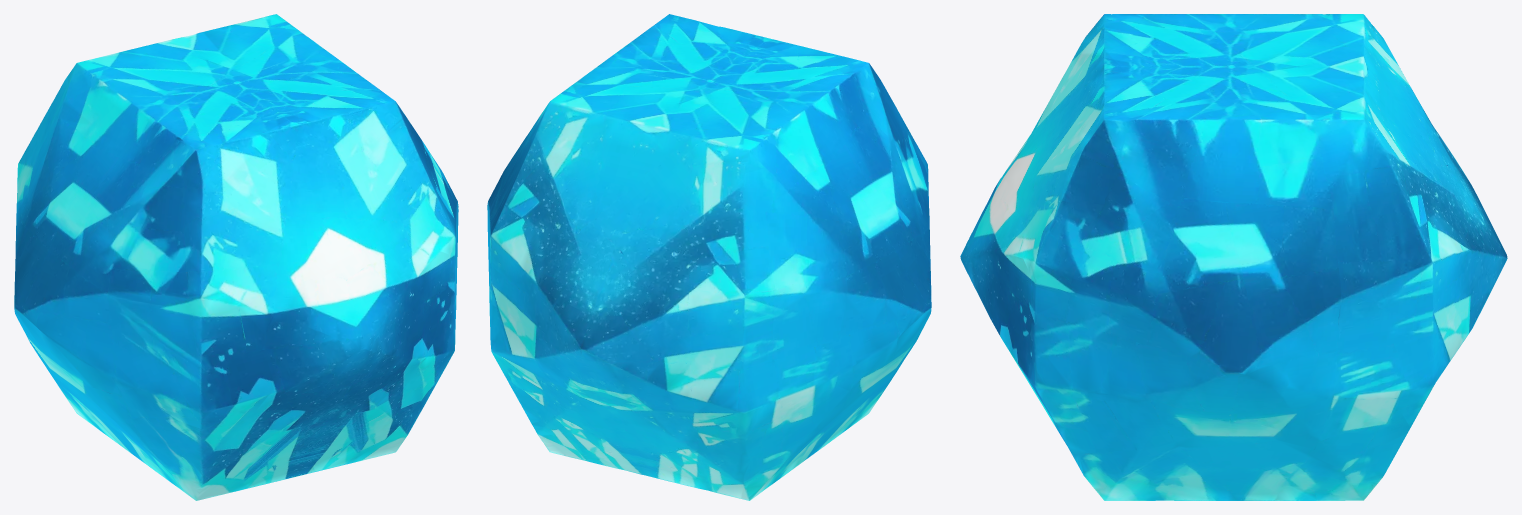
File: crystal.glb
The picture shows the model from 3 angles, left to right: view 1: azimuth 30°, elevation 25°; view 2: azimuth 150°, elevation 25°; view 3: azimuth 270°, elevation 25°; orthographic projection. The views are drawn at different scales.
Size of the model in its own units: 1.9 by 1.46 by 1.9.
1 material, 1 textured.
